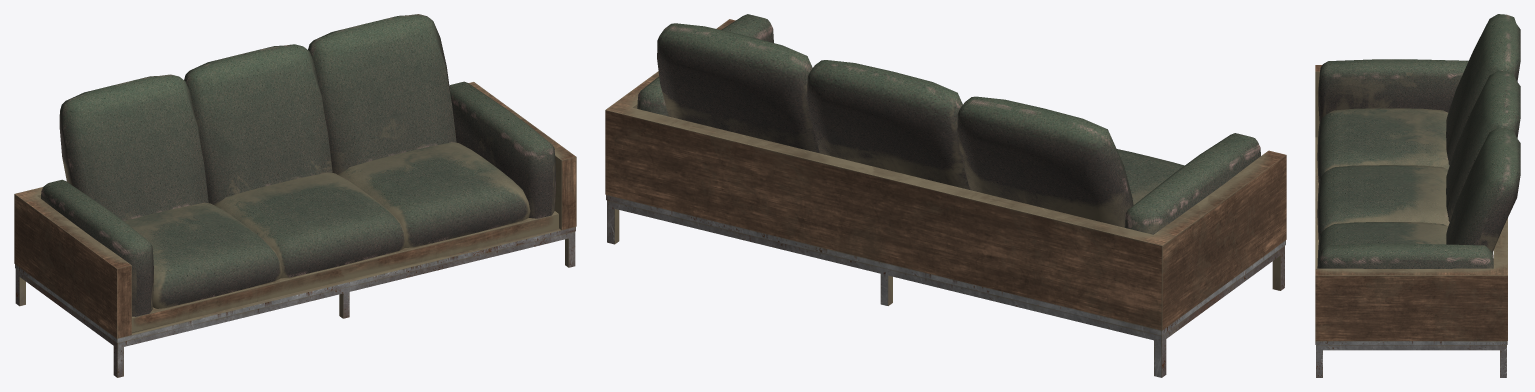
Rendered from sofa.glb.
3 views of the same model, side by side, from view 1: azimuth 30°, elevation 25°; view 2: azimuth 150°, elevation 25°; view 3: azimuth 270°, elevation 25° (orthographic). The views are drawn at different scales.
Size of the model in its own units: 3.48 by 1.41 by 1.44.
1 material, 1 textured.
